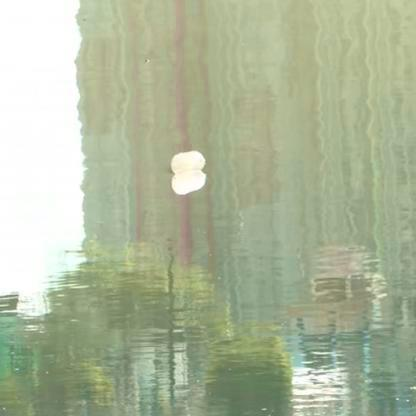Plastic: (169, 167, 209, 198)
